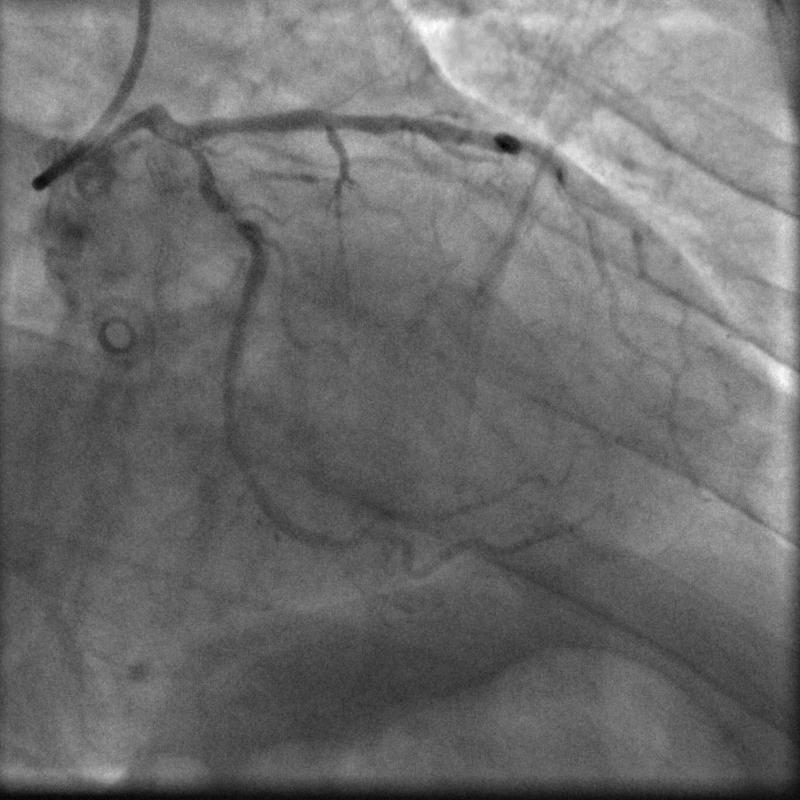Stenosis: (220, 204, 244, 222)
